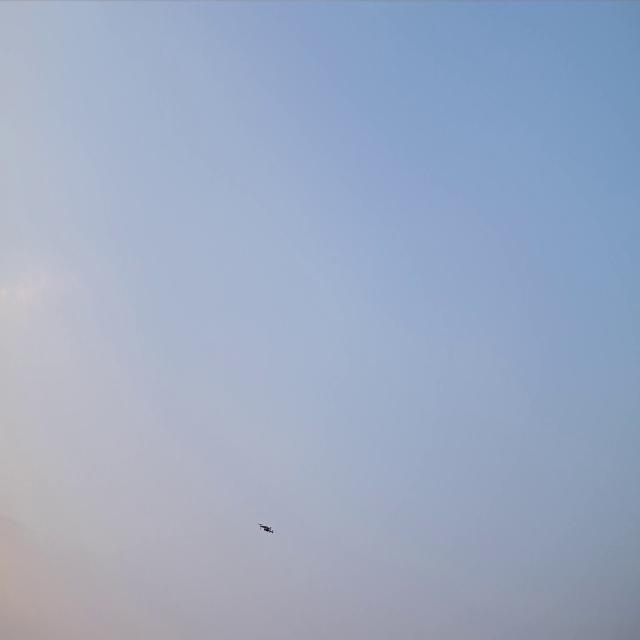UAV: (256, 521, 274, 534)
